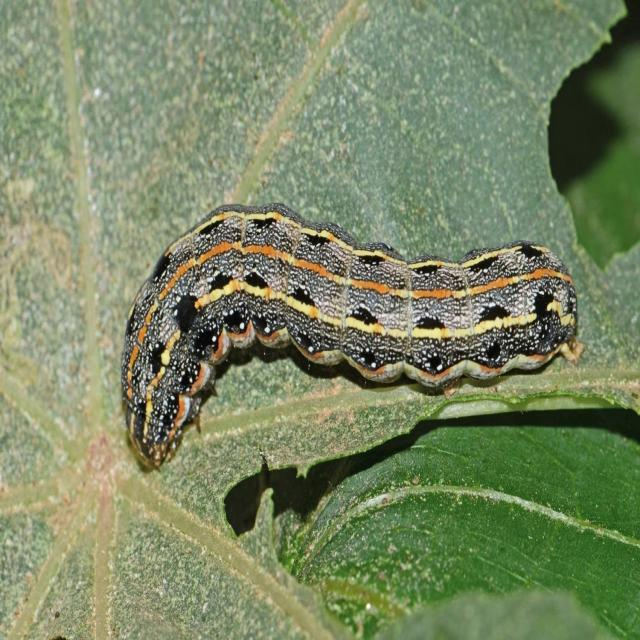armyworm: (120, 200, 584, 472)
